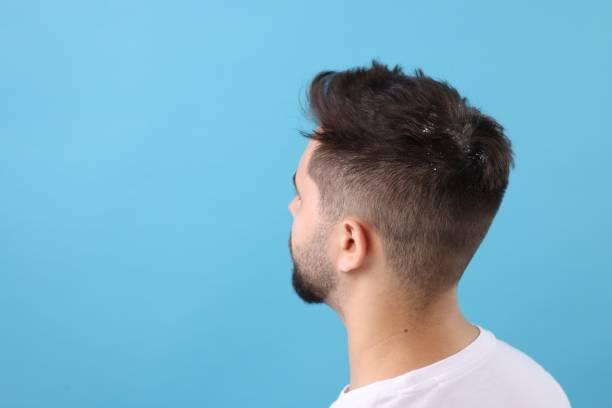dandruff: (412, 121, 442, 142), (464, 142, 488, 164), (428, 164, 439, 173)
